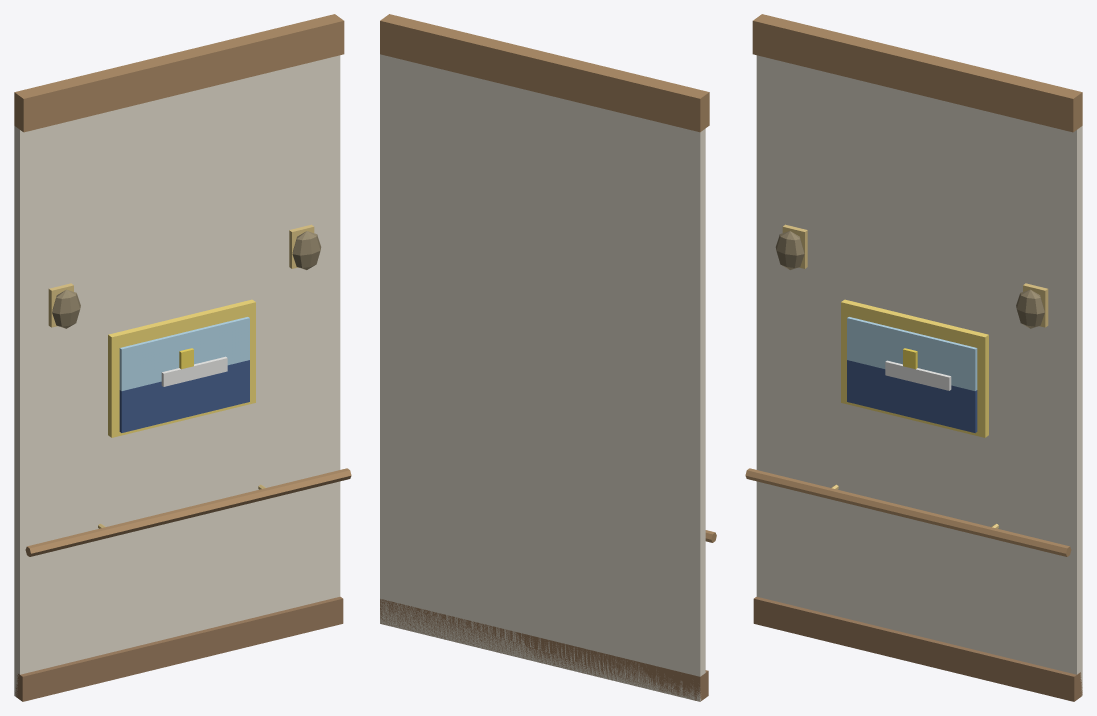
The model's file is CR_Pasillo.fbx.
3 renders of one model, left to right at view 1: azimuth 30°, elevation 25°; view 2: azimuth 150°, elevation 25°; view 3: azimuth 330°, elevation 25°, orthographic.
Visible parts, largest first — view 1: CR_Pasillo; view 2: CR_Pasillo; view 3: CR_Pasillo.
Part boxes in pixels (x1=…): CR_Pasillo: x1=14, y1=14, x2=351, y2=701; CR_Pasillo: x1=380, y1=14, x2=716, y2=701; CR_Pasillo: x1=745, y1=14, x2=1082, y2=701.
Size of the model in its own units: 2 by 3.6 by 0.184.
